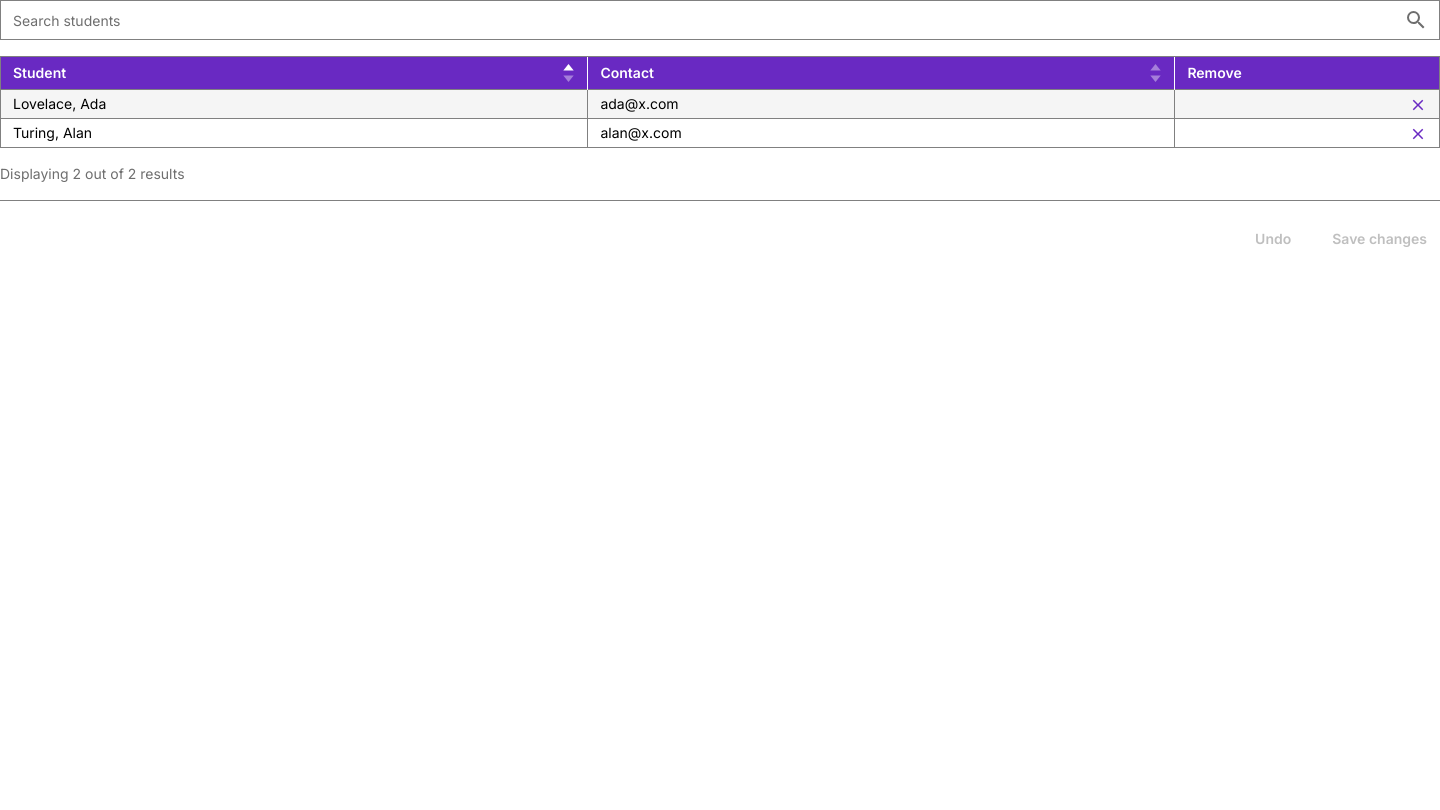
Scenario: StudentsTab › does not persist when the Save changes confirmation is cancelled (removal stays staged)
Click the button named "Remove Lovelace, Ada": (1418, 104) [1409, 94, 1427, 114]
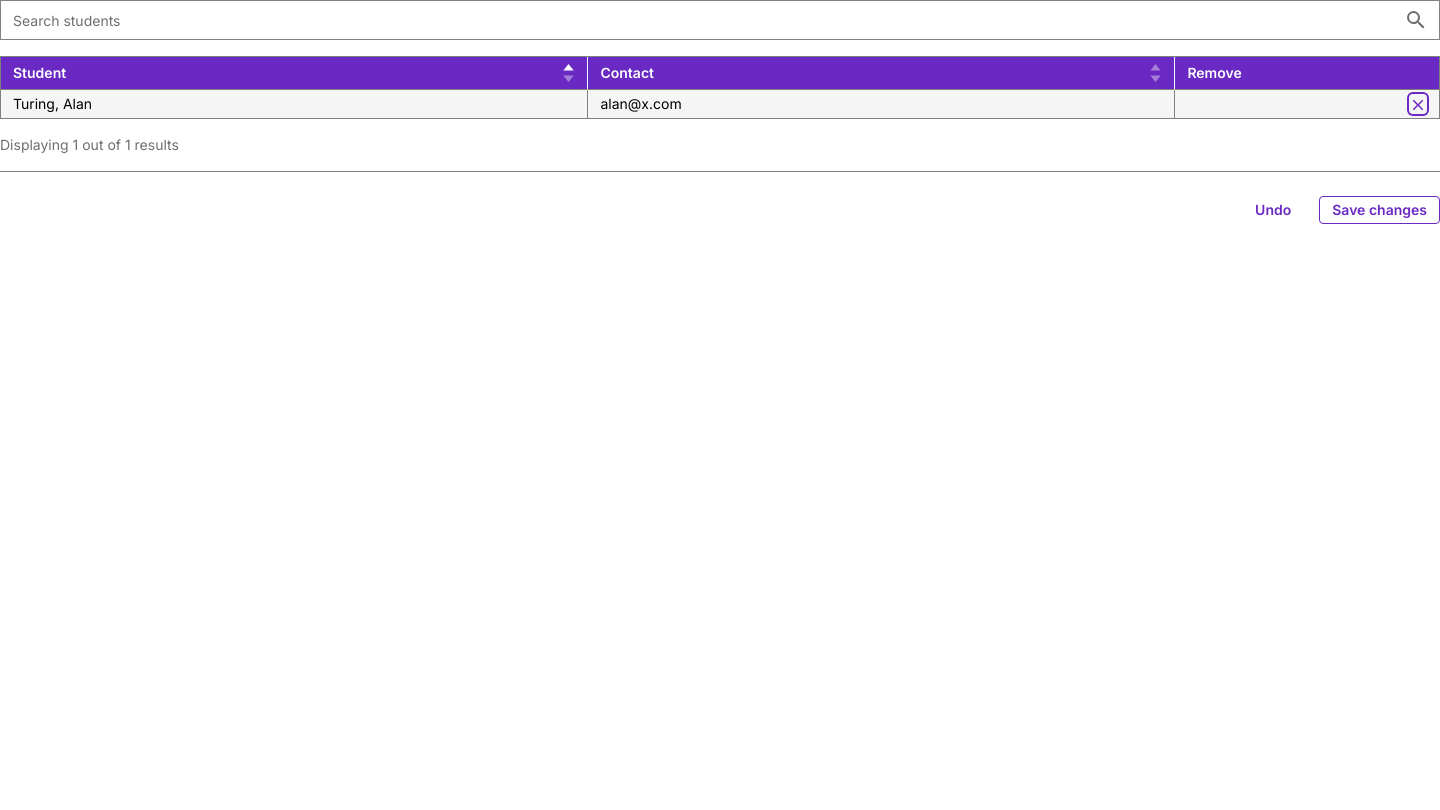
Click the button "Save changes": (1380, 210) [1319, 196, 1439, 224]
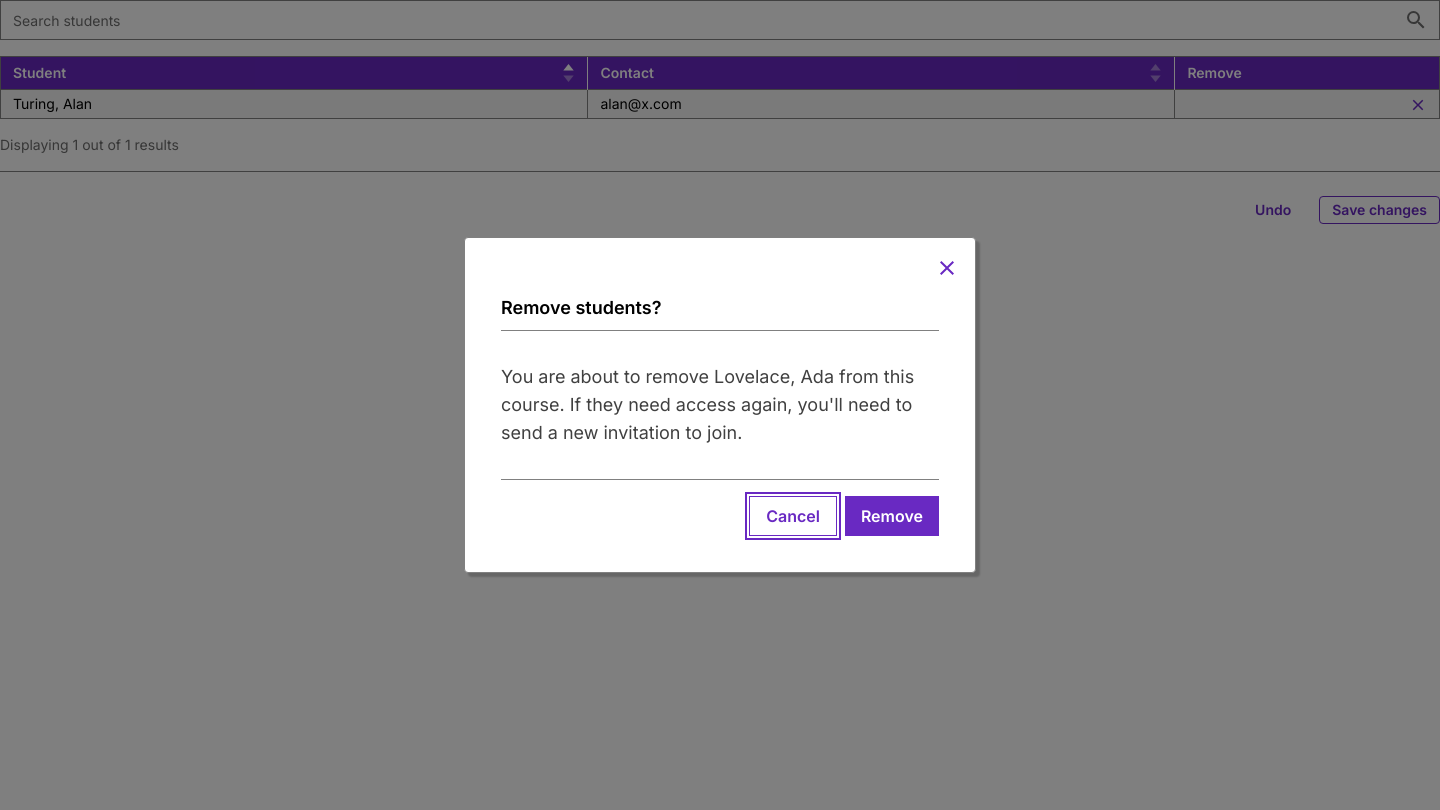
Click the button "Cancel": (793, 516) [749, 496, 837, 536]
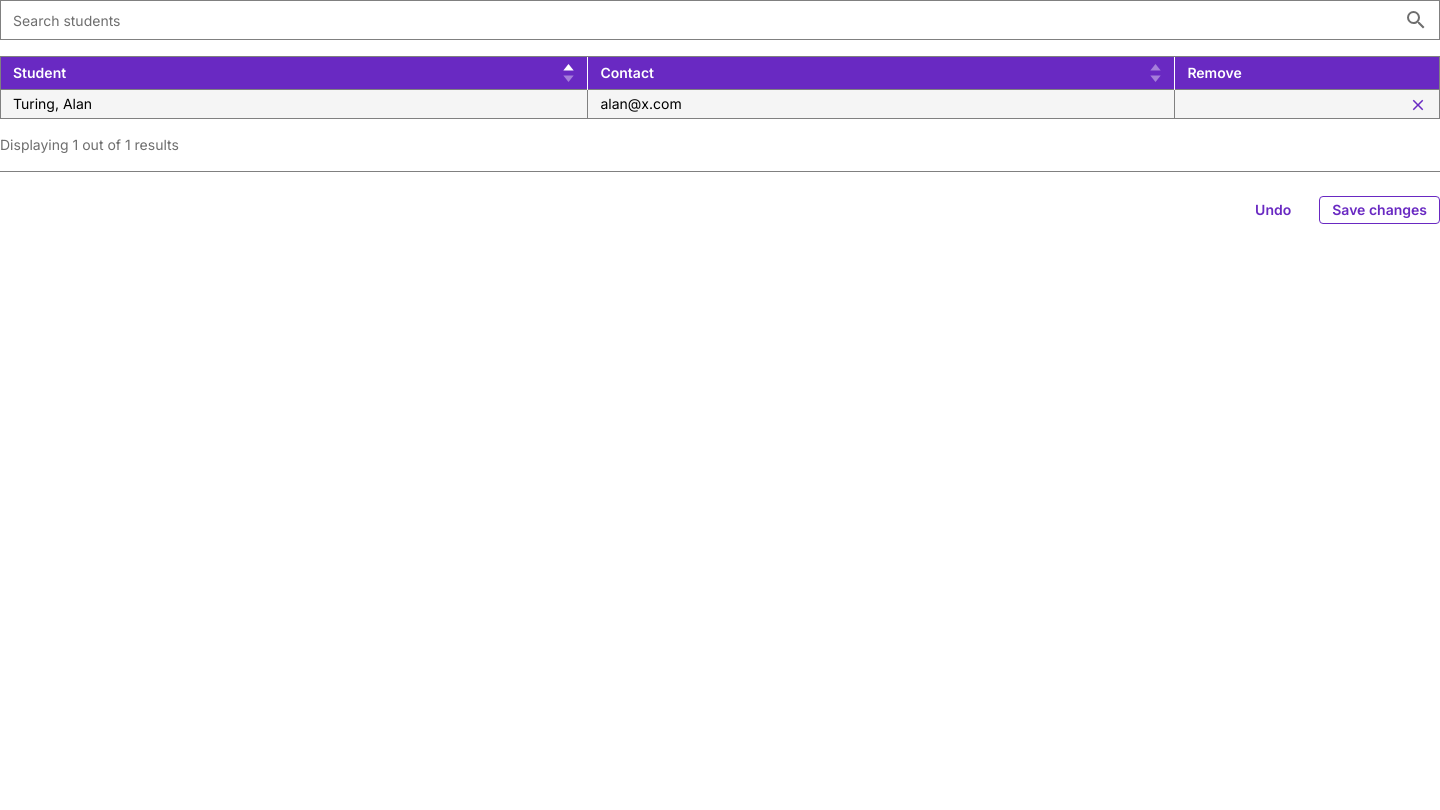
Check: the button "Save changes" is enabled, box [1319, 196, 1439, 224]
Check: the text "Lovelace, Ada" is gone
